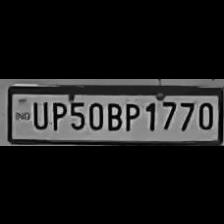0: (194, 98, 214, 130), (86, 98, 104, 130)
1: (140, 98, 158, 132)
5: (66, 97, 86, 131)
7: (158, 97, 178, 131), (175, 97, 193, 130)
B: (104, 99, 122, 131)
P: (122, 98, 140, 132), (47, 98, 65, 130)
U: (28, 97, 48, 129)
